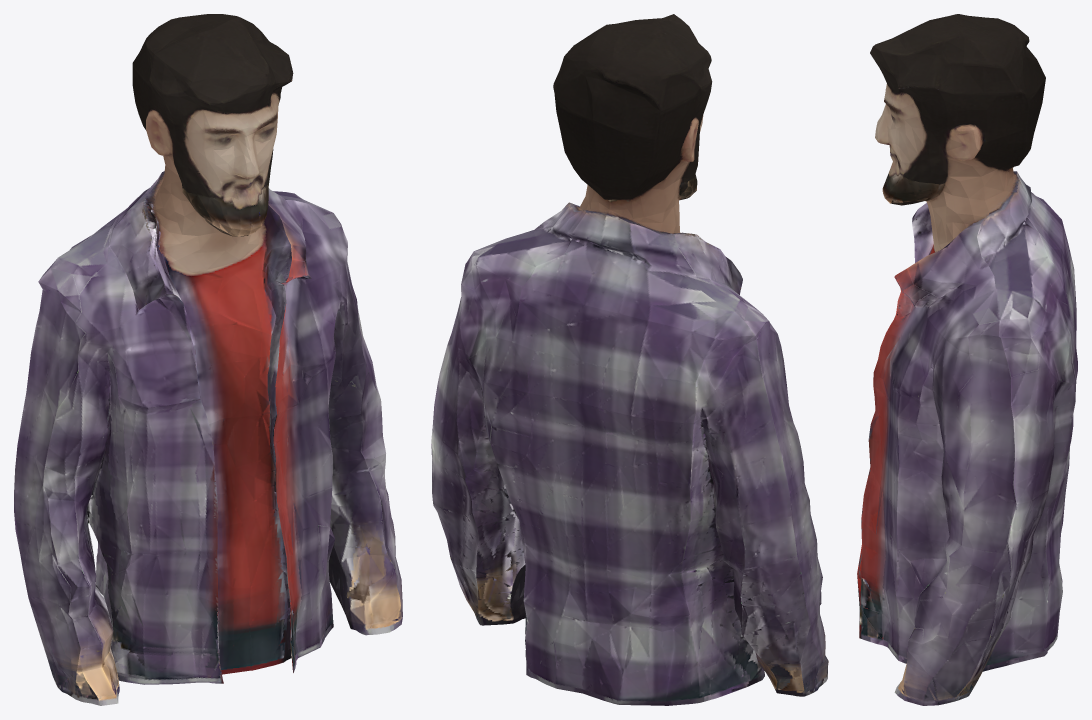
File: step_15.glb
3 renders of one model, left to right at view 1: azimuth 30°, elevation 25°; view 2: azimuth 150°, elevation 25°; view 3: azimuth 270°, elevation 25°, orthographic. The views are drawn at different scales.
Visible parts, largest first — view 1: geometry_0; view 2: geometry_0; view 3: geometry_0.
Boxes of the visible parts, box(x1,y1,x2,y2) form: geometry_0: box(14, 14, 402, 705); geometry_0: box(431, 14, 828, 705); geometry_0: box(857, 14, 1077, 705).
Bounding box in the file's own units: 0.5048 × 0.8284 × 0.2744.
Materials: 1 (1 with a texture image).
